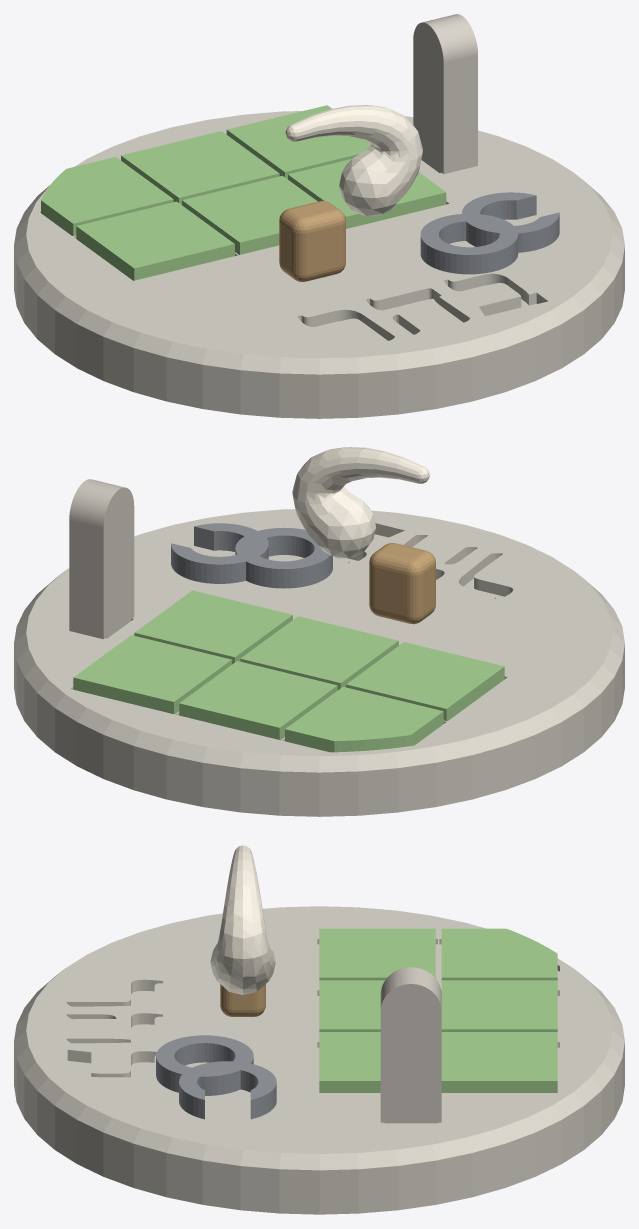
The model's file is behar.glb.
3 renders of one model, top to bottom at view 1: azimuth 30°, elevation 25°; view 2: azimuth 150°, elevation 25°; view 3: azimuth 270°, elevation 25°, orthographic.
Parts seen in each view (by area): view 1: stage, field, boundary-stone, horn, horn-stand, link, open-shackle; view 2: stage, field, boundary-stone, horn, horn-stand, link, open-shackle; view 3: stage, field, boundary-stone, horn, link, open-shackle, horn-stand.
Boxes of the visible parts, left/top/right/bottom form: stage: left=14, top=111, right=624, bottom=418; field: left=41, top=105, right=446, bottom=280; boundary-stone: left=413, top=14, right=477, bottom=173; horn: left=285, top=105, right=422, bottom=216; horn-stand: left=279, top=200, right=345, bottom=281; link: left=420, top=213, right=518, bottom=274; open-shackle: left=462, top=192, right=559, bottom=252; stage: left=14, top=509, right=624, bottom=816; field: left=73, top=590, right=504, bottom=752; boundary-stone: left=69, top=479, right=134, bottom=639; horn: left=292, top=447, right=429, bottom=558; horn-stand: left=369, top=543, right=435, bottom=624; link: left=235, top=527, right=332, bottom=588; open-shackle: left=171, top=523, right=268, bottom=583; stage: left=14, top=906, right=624, bottom=1214; field: left=319, top=928, right=557, bottom=1092; boundary-stone: left=380, top=967, right=441, bottom=1123; horn: left=210, top=845, right=275, bottom=994; link: left=156, top=1035, right=253, bottom=1095; open-shackle: left=179, top=1061, right=276, bottom=1119; horn-stand: left=220, top=984, right=265, bottom=1016.
Size of the model in its own units: 40 by 15.43 by 40.
